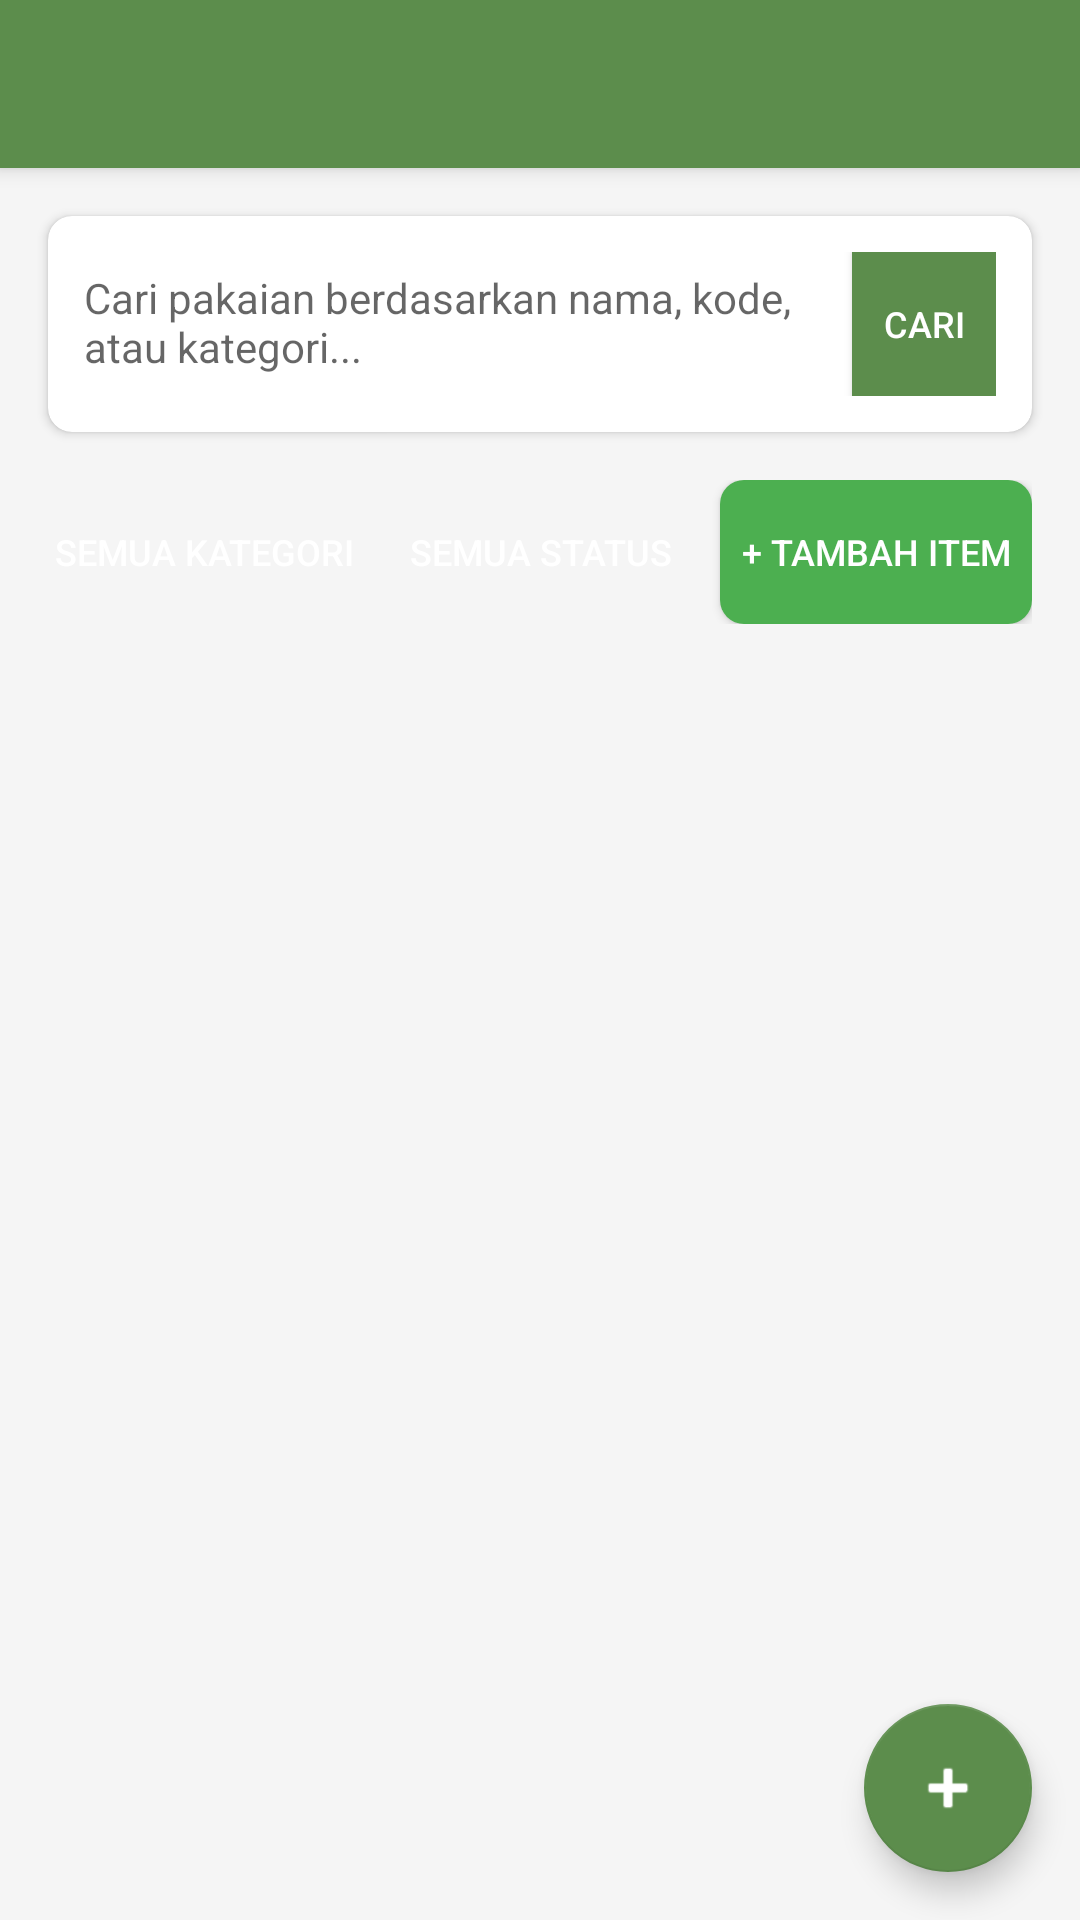

Where to tap for icons on this 1080w x 1920h app screen, as (x,y):
add: (948,1788)
